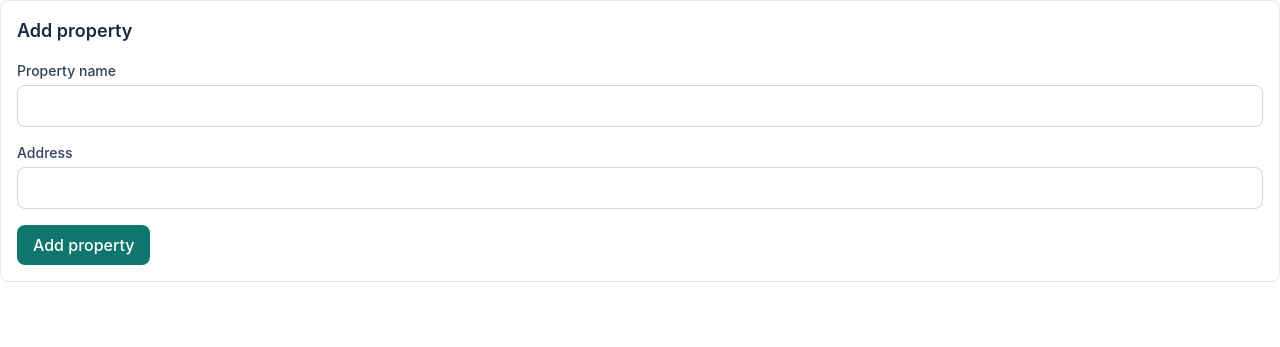
PropertyForm › shows errors and does not submit when empty
Step 1. Click the button "Add property" → click(84, 245), box [17,225,150,265]
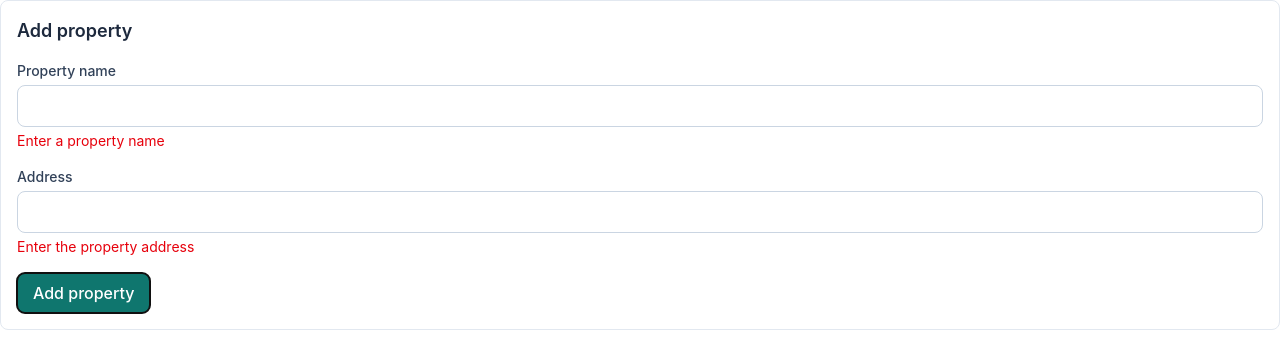
Expected: the text "Enter a property name" is shown, [17,132,165,149]
Expected: the text "Enter the property address" is shown, [17,238,194,255]
